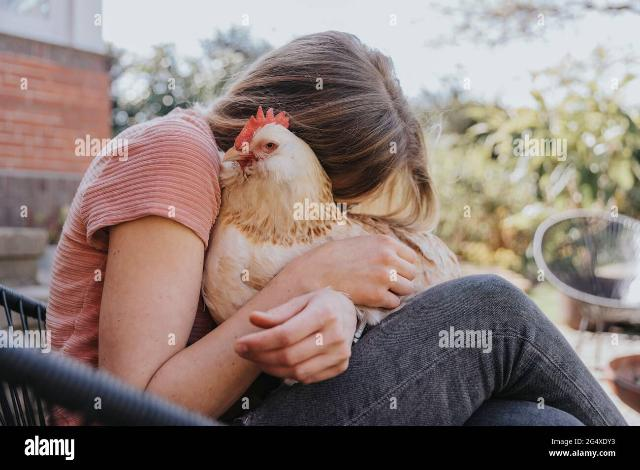Chicken: (200, 104, 458, 339)
